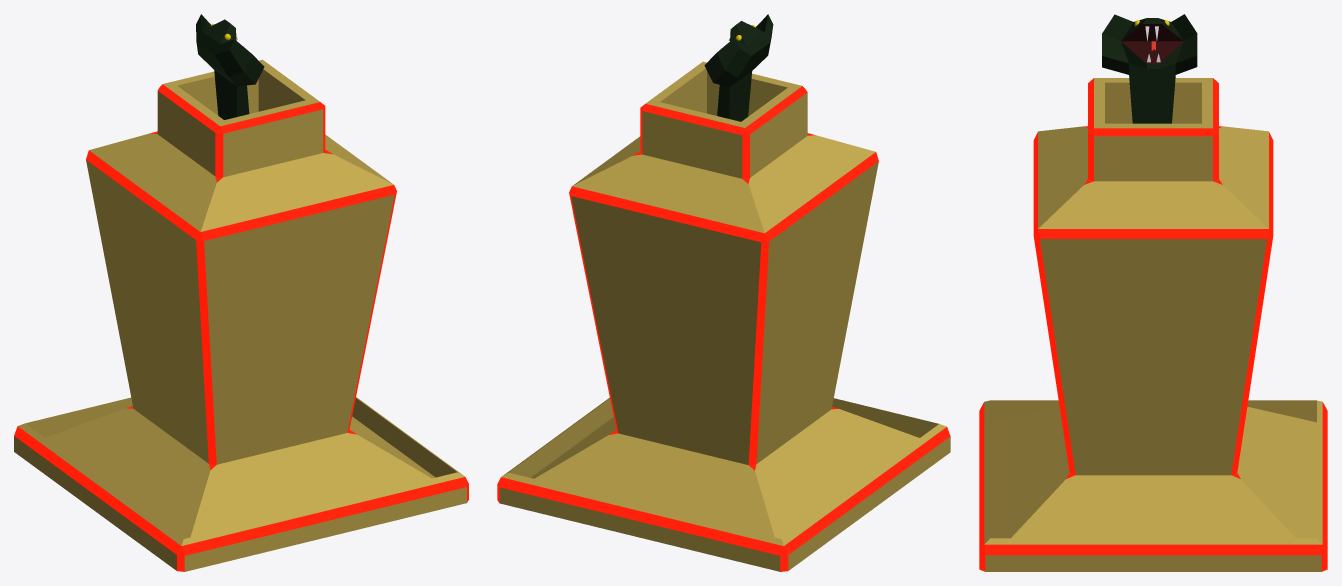
The model's file is EG_[obs]Snake.fbx.
3 views of the same model, side by side, from view 1: azimuth 30°, elevation 25°; view 2: azimuth 150°, elevation 25°; view 3: azimuth 270°, elevation 25° (orthographic). The views are drawn at different scales.
Parts seen in each view (by area): view 1: Cube.005; view 2: Cube.005; view 3: Cube.005.
Boxes of the visible parts, x1,y1,x2,y2 form: Cube.005: (14, 14, 468, 571); Cube.005: (497, 14, 950, 571); Cube.005: (979, 14, 1327, 571).
Bounding box in the file's own units: 96.3 × 144 × 96.3.
